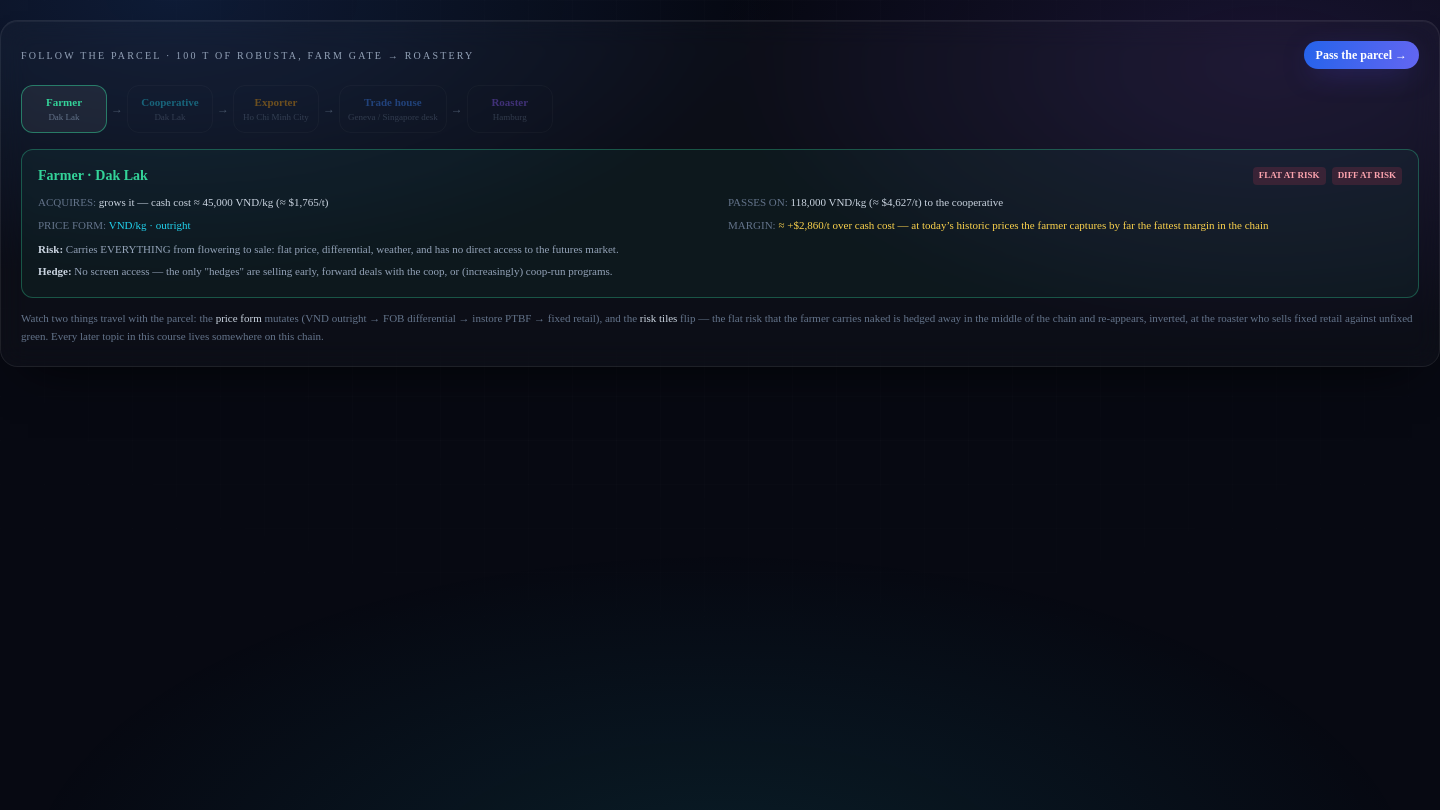
it: ParcelJourney: risk tiles flip as the parcel moves down the chain
The image size is (1440, 810).
Two hops → Exporter: flat covered, diff at risk, origination margin
Click the button "Pass the parcel →" at [1361, 55], box x1=1304 y1=41 x2=1419 y2=69
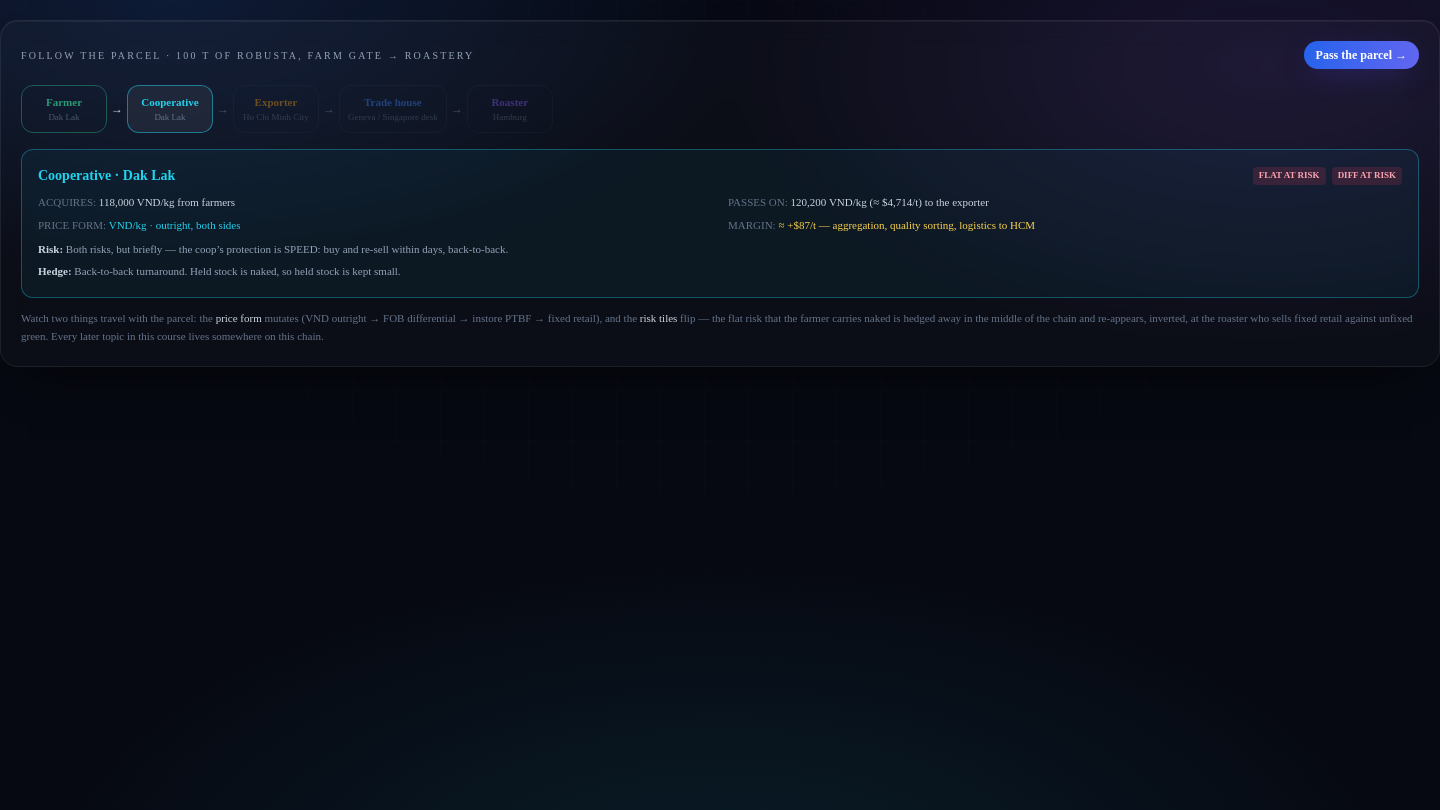
Click the button "Pass the parcel →" at [1361, 55], box x1=1304 y1=41 x2=1419 y2=69
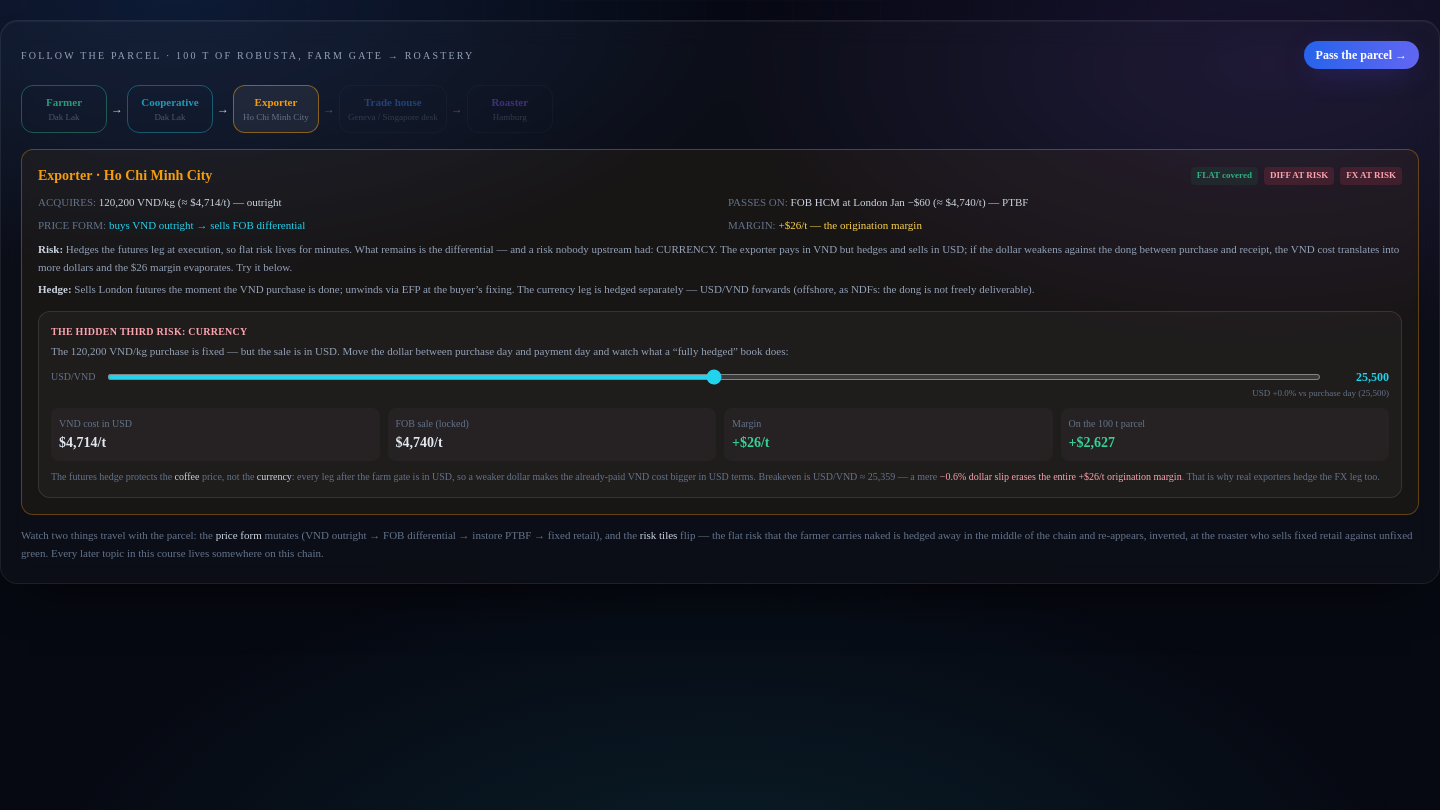
Now the text "Exporter · Ho Chi Minh City" is shown, box x1=38 y1=166 x2=212 y2=186
Now the text "FLAT covered" is shown, box x1=1191 y1=167 x2=1258 y2=185
Now the text "origination margin" is shown, box x1=778 y1=218 x2=922 y2=230
